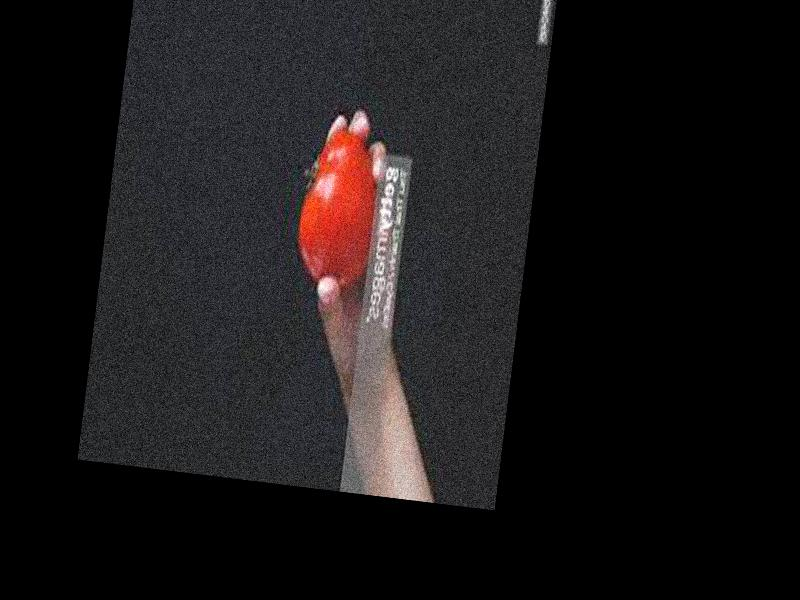Tomato: (292, 121, 387, 285)
